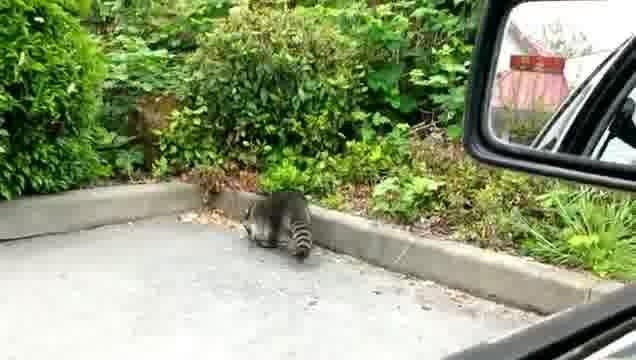raccoon: (240, 187, 321, 269)
